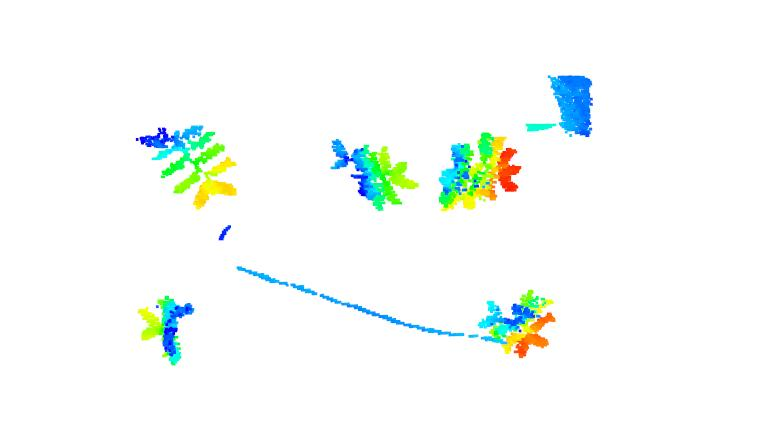chickpea: (136, 122, 239, 207), (329, 139, 421, 212), (435, 133, 521, 210), (478, 287, 555, 360), (136, 296, 198, 371)
